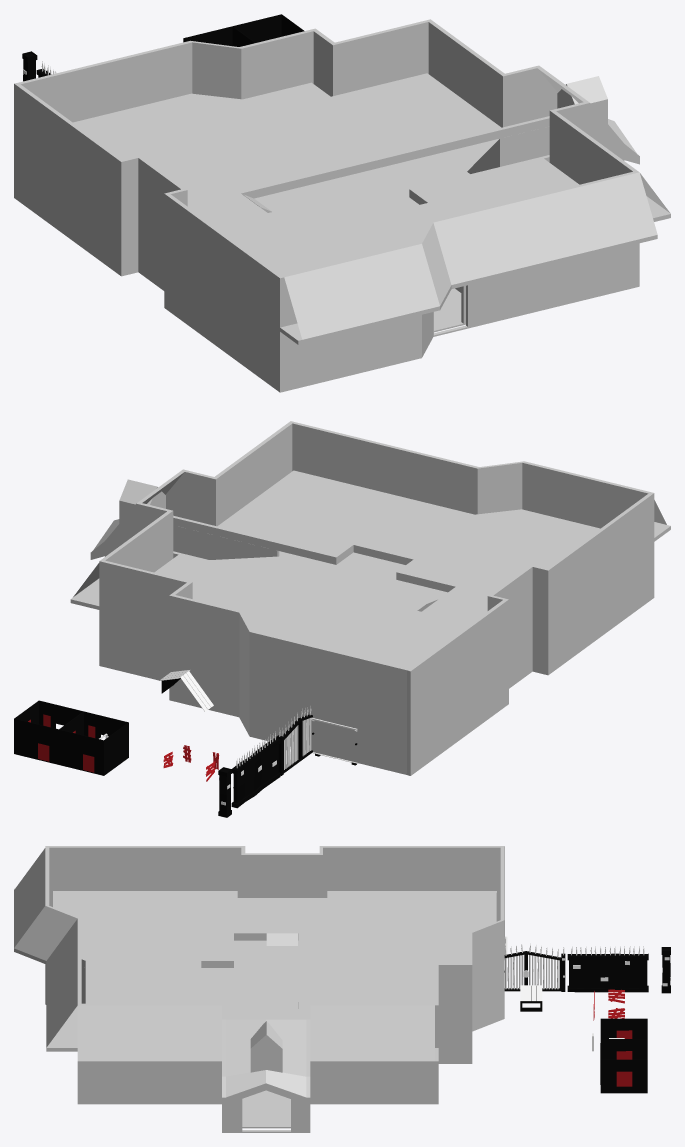
The model's file is assetMansion+Grounds.fbx.
The picture shows the model from 3 angles, top to bottom: view 1: azimuth 30°, elevation 25°; view 2: azimuth 150°, elevation 25°; view 3: azimuth 270°, elevation 25°; orthographic projection. The views are drawn at different scales.
Visible parts, largest first — view 1: Plane.004, MainRoom.002, MainRoom.001; view 2: Plane.004, MainRoom.001, MainRoom.002, StoneWall, Gate, Pillar; view 3: Plane.004, StoneWall, MainRoom.002, Gate, MainRoom.001, RoofWindowRight, Pillar.
Part boxes in pixels (x1,y1,x2,y2): Plane.004: (14,19,670,392); MainRoom.002: (233,14,304,42); MainRoom.001: (183,26,254,46); Plane.004: (70,421,670,775); MainRoom.001: (59,711,128,775); MainRoom.002: (14,700,83,764); StoneWall: (231,731,280,808); Gate: (276,706,312,775); Pillar: (218,767,231,817); Plane.004: (14,846,504,1132); StoneWall: (567,946,648,992); MainRoom.002: (600,1039,647,1093); Gate: (504,944,565,991); MainRoom.001: (600,1018,647,1063); RoofWindowRight: (520,985,542,1011); Pillar: (661,947,670,993).
Bounding box in the file's own units: 58.93 × 14.45 × 83.99.
